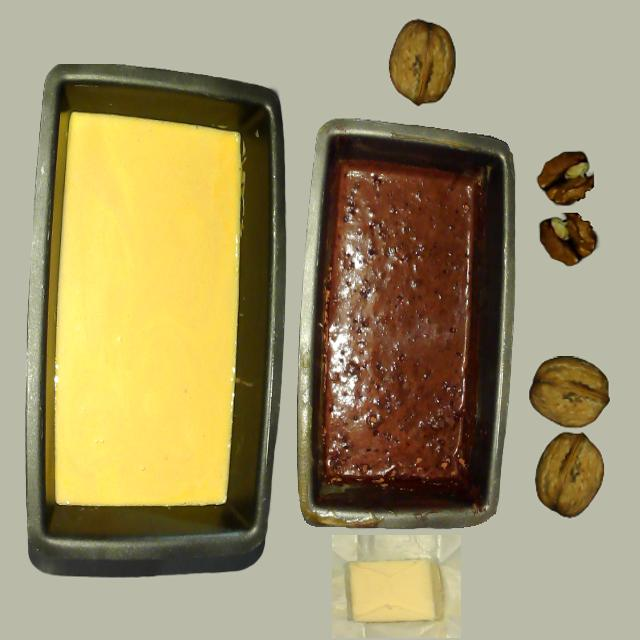Walnut: (527, 429, 617, 530), (528, 335, 613, 428), (388, 19, 454, 106)
